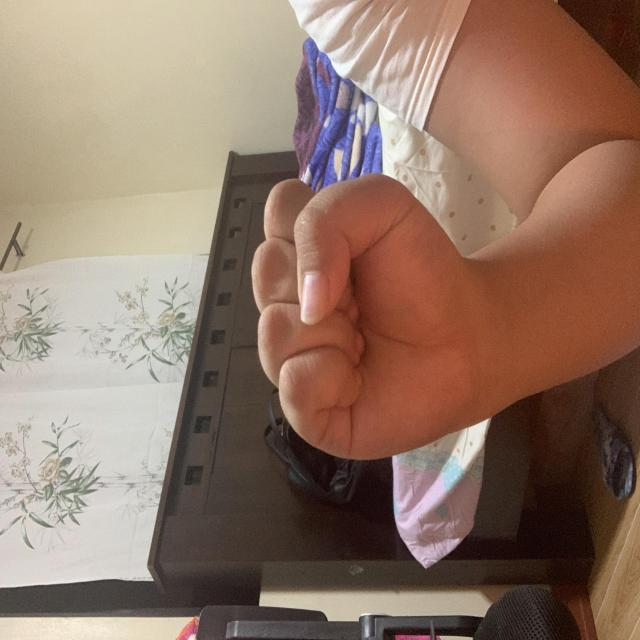S: (172, 249, 466, 490)
